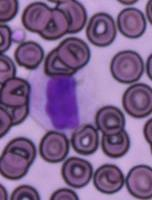M: (27, 74, 98, 134)
